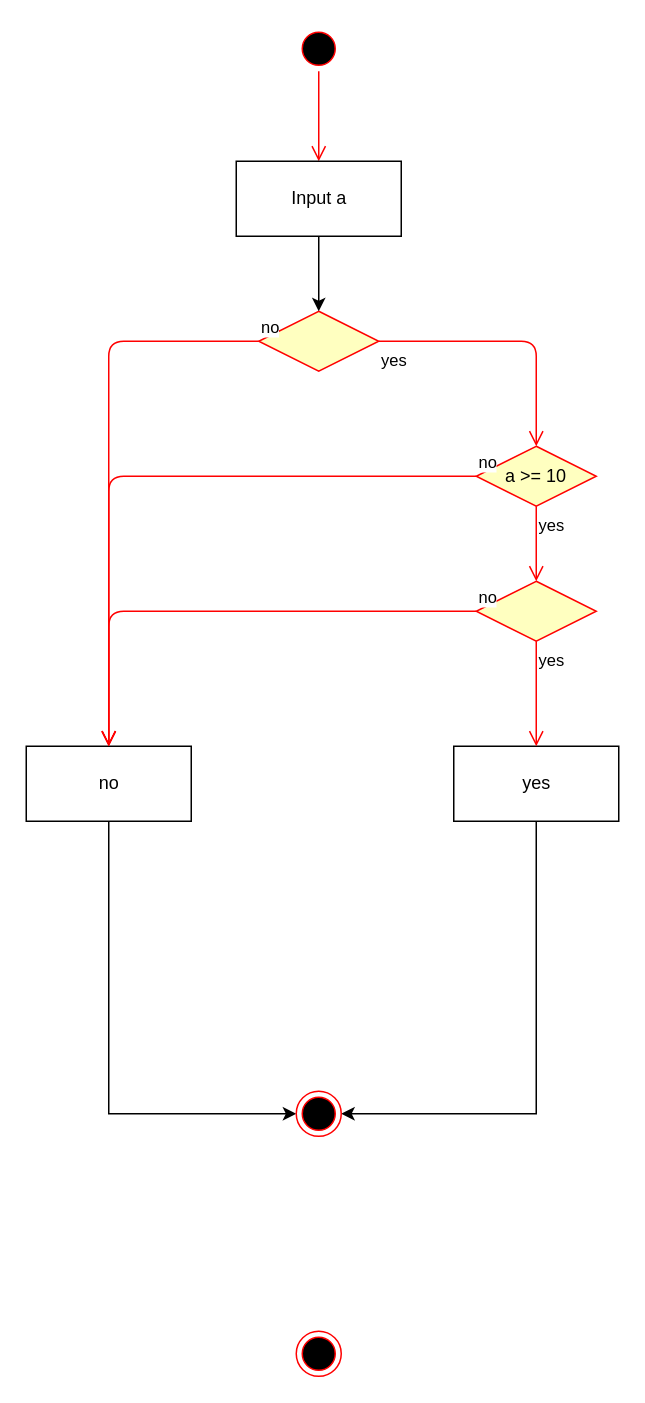
This 645x1403 diagram has some shape labels left out. The centre of each missing label's shape, as x and y in pixels:
"a % 2 == 0" belongs at [318,340].
"a <= 99" belongs at [535,610].
